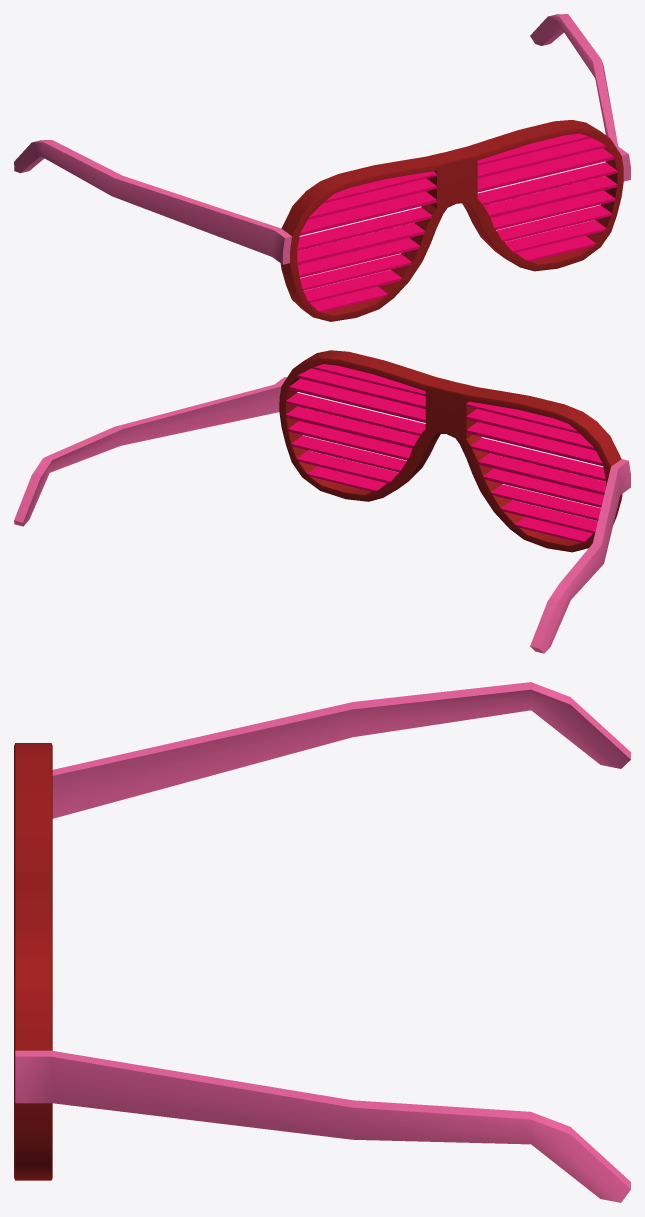
File: Glasses_08_01.fbx
3 views of the same model, one above another, from view 1: azimuth 30°, elevation 25°; view 2: azimuth 150°, elevation 25°; view 3: azimuth 270°, elevation 25° (orthographic). The views are drawn at different scales.
Parts seen in each view (by area): view 1: Glasses_08_01; view 2: Glasses_08_01; view 3: Glasses_08_01.
Boxes of the visible parts, left/top/right/bottom form: Glasses_08_01: left=14, top=14, right=630, bottom=321; Glasses_08_01: left=14, top=350, right=630, bottom=653; Glasses_08_01: left=14, top=682, right=630, bottom=1202.
Size of the model in its own units: 39.35 by 9.78 by 23.23.
